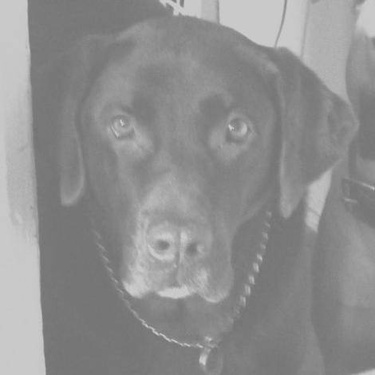dog: (15, 9, 368, 373)
